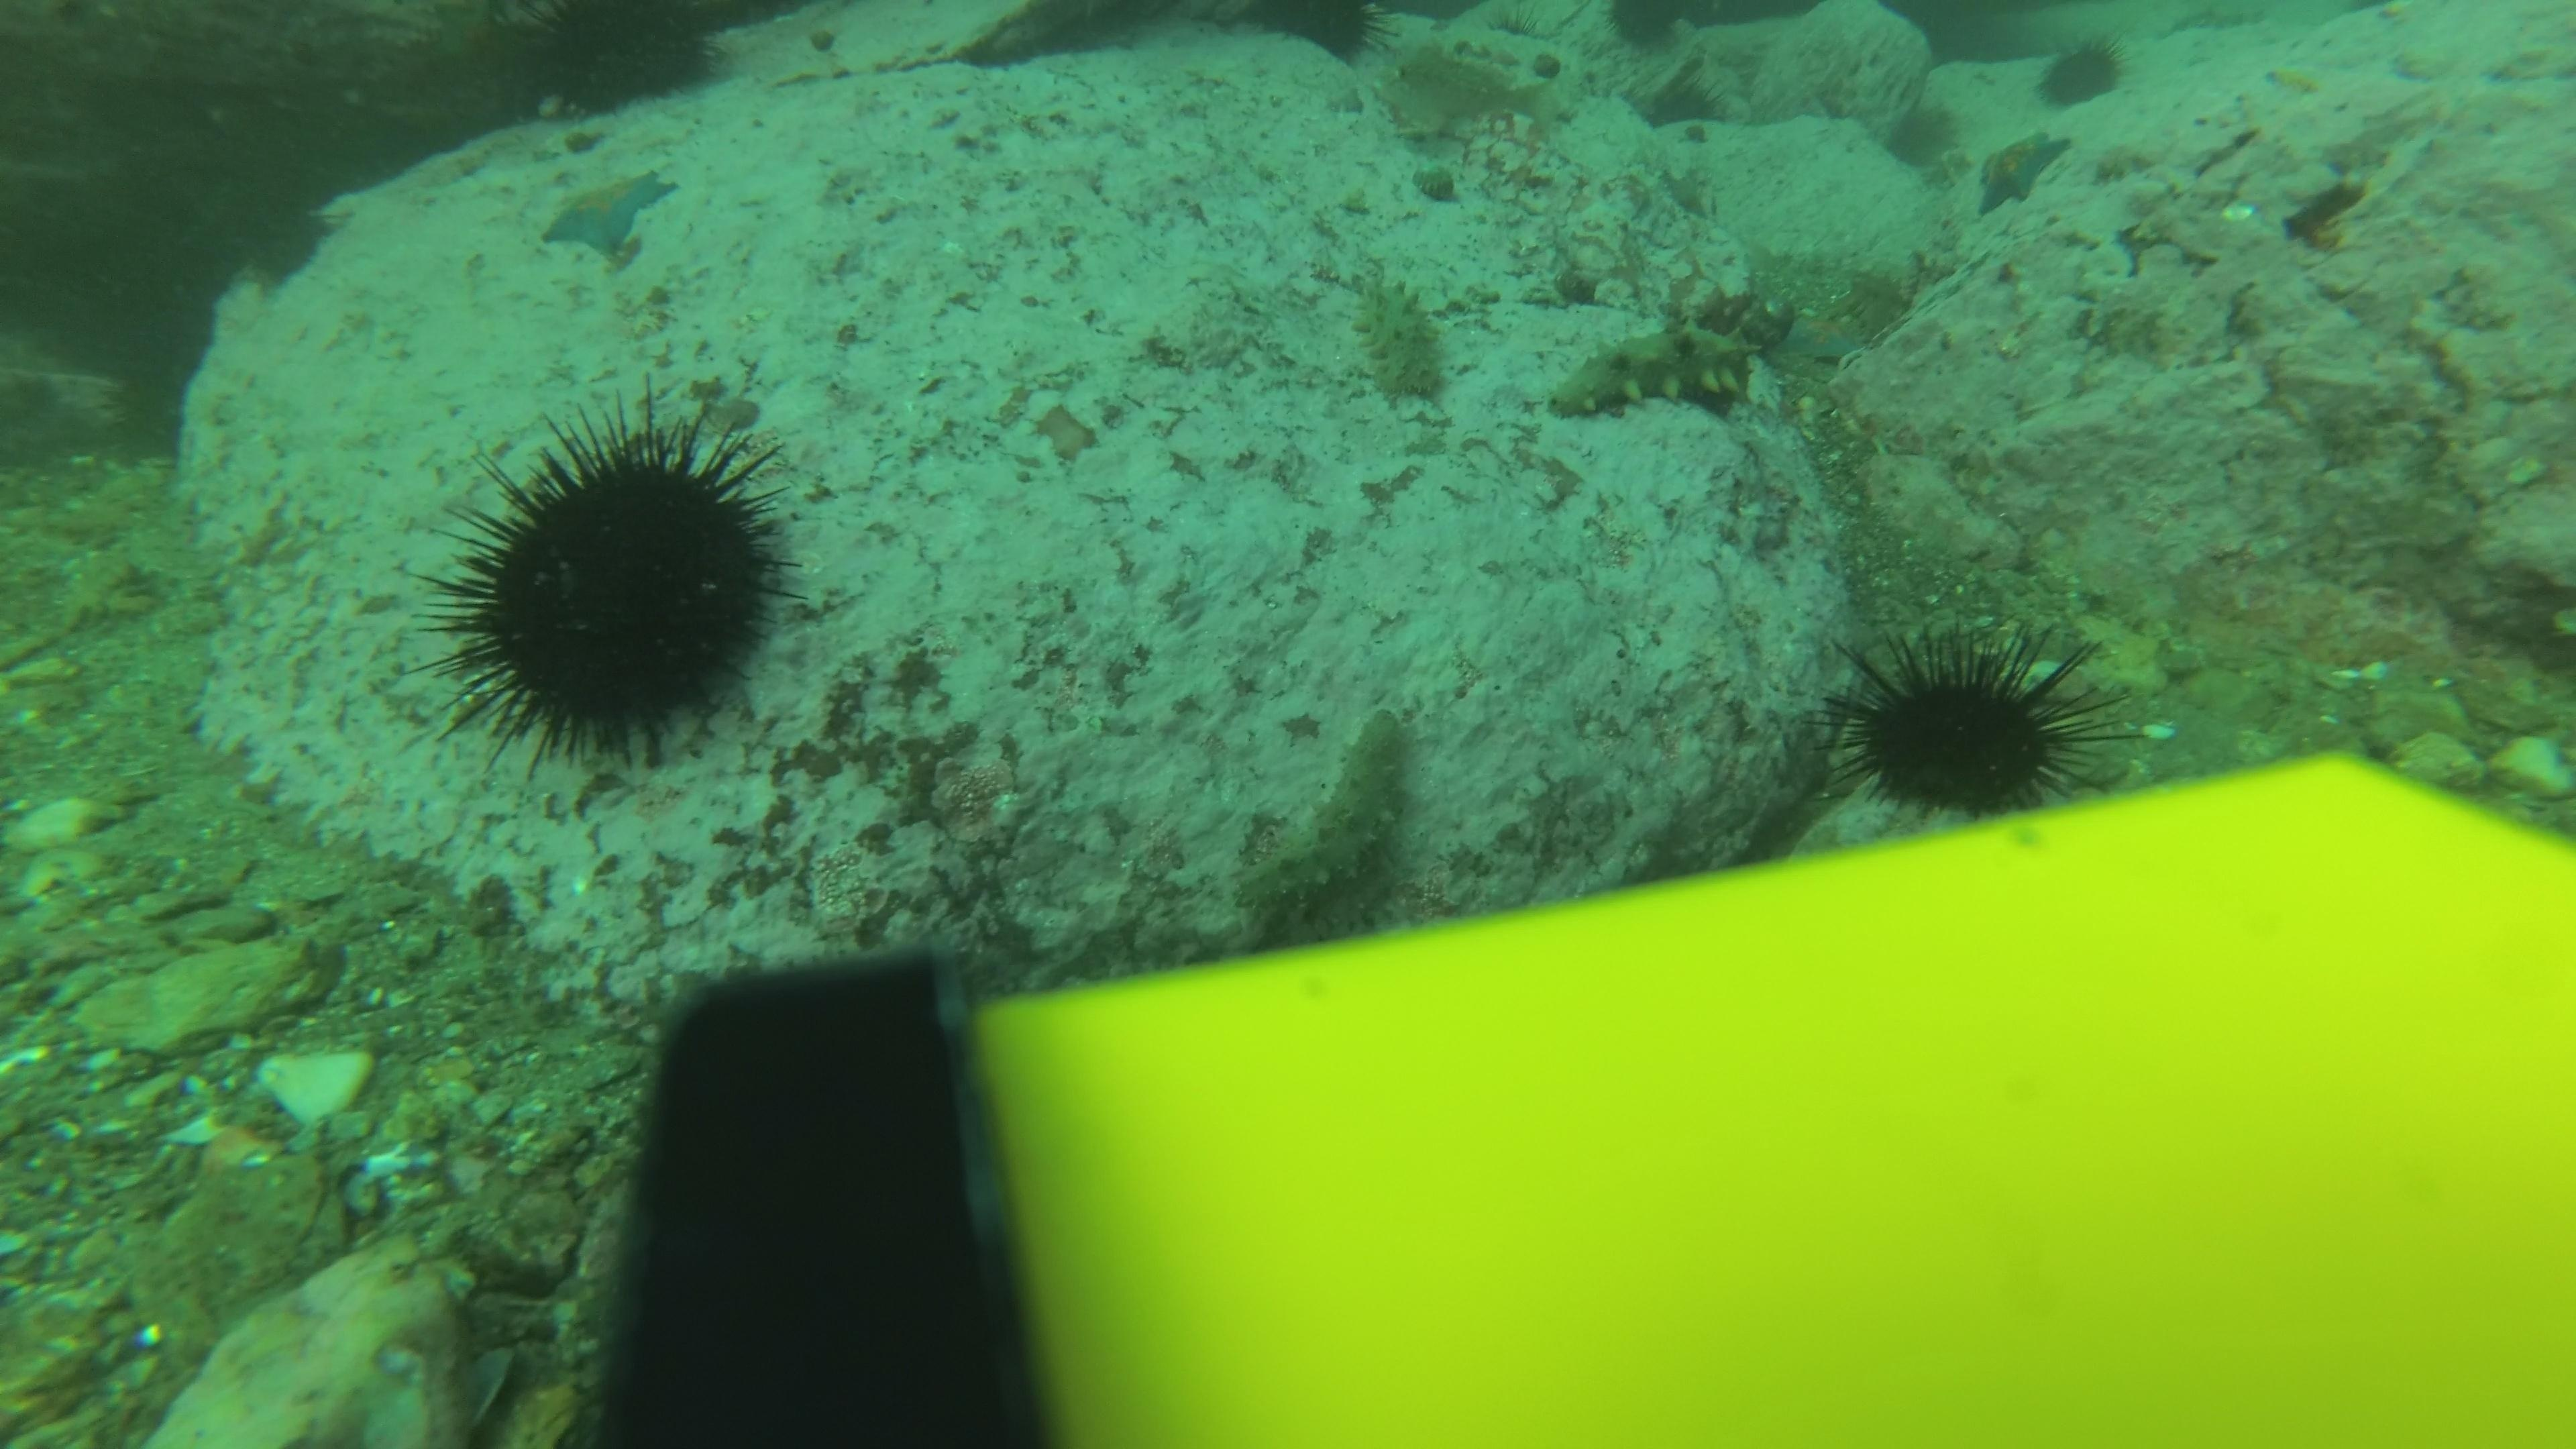echinus: (421, 400, 807, 770), (1826, 621, 2118, 819), (508, 2, 731, 122), (228, 177, 343, 294), (1237, 0, 1392, 69), (2031, 32, 2130, 111), (1599, 0, 1700, 57)
holothurian: (1233, 701, 1424, 934), (1539, 311, 1771, 426), (1346, 267, 1454, 412)
starfish: (534, 163, 681, 262), (1971, 127, 2074, 216), (1776, 301, 1874, 370)
